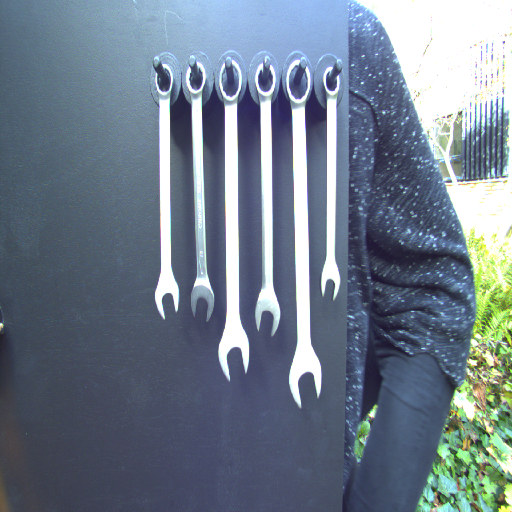bottom: (288, 344, 325, 409), (216, 321, 251, 385), (151, 269, 182, 317), (253, 287, 281, 340), (188, 273, 215, 324), (319, 257, 343, 302)
top: (285, 59, 312, 106), (151, 59, 178, 104), (218, 59, 244, 105), (183, 58, 209, 101), (253, 61, 277, 102), (321, 64, 344, 98)
